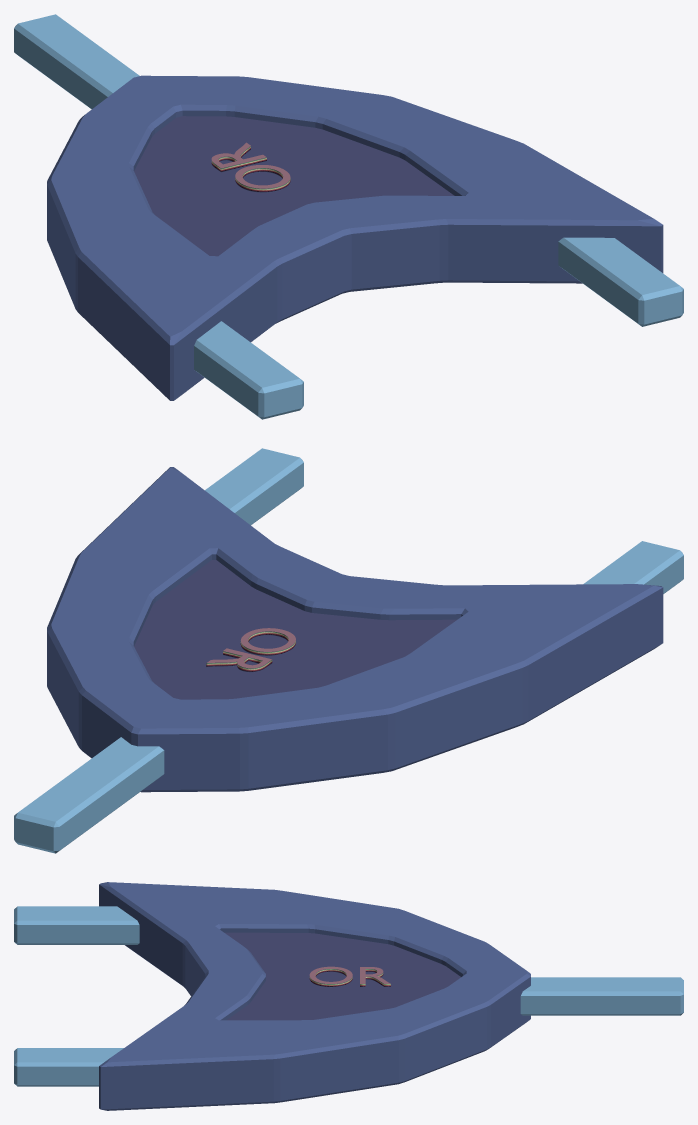
File: Assets_Gates.fbx_OR.fbx
3 views of the same model, one above another, from view 1: azimuth 30°, elevation 25°; view 2: azimuth 150°, elevation 25°; view 3: azimuth 270°, elevation 25° (orthographic). The views are drawn at different scales.
Visible parts, largest first — view 1: OR.001, Text.005; view 2: OR.001, Text.005; view 3: OR.001, Text.005.
Part boxes in pixels (x1=…): OR.001: x1=14, y1=14, x2=683, y2=419; Text.005: x1=211, y1=142, x2=290, y2=192; OR.001: x1=14, y1=448, x2=683, y2=853; Text.005: x1=206, y1=628, x2=295, y2=672; OR.001: x1=14, y1=882, x2=683, y2=1110; Text.005: x1=309, y1=966, x2=390, y2=987.
Size of the model in its own units: 260 by 32 by 400.
